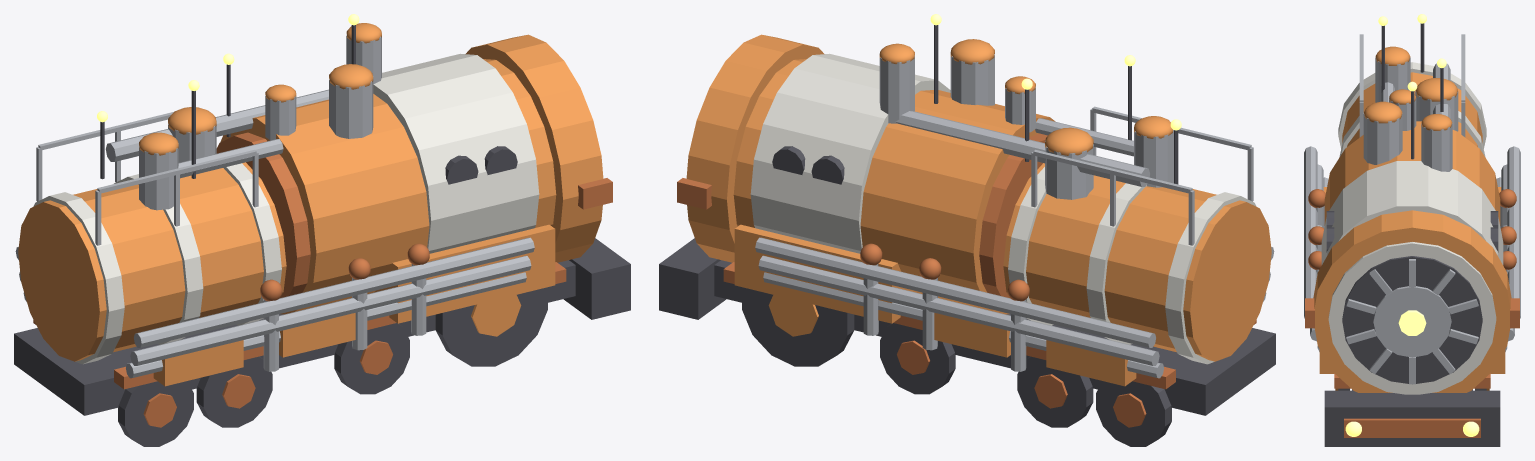
File: Locomotive_Future.fbx
3 views of the same model, side by side, from view 1: azimuth 30°, elevation 25°; view 2: azimuth 150°, elevation 25°; view 3: azimuth 270°, elevation 25° (orthographic). The views are drawn at different scales.
Visible parts, largest first — view 1: Locomotive_Future; view 2: Locomotive_Future; view 3: Locomotive_Future.
Boxes of the visible parts, <box> form: Locomotive_Future: <box>14,14,630,446</box>; Locomotive_Future: <box>659,14,1275,446</box>; Locomotive_Future: <box>1304,14,1520,446</box>.
Bounding box in the file's own units: 5.51 × 3.35 × 2.22.
